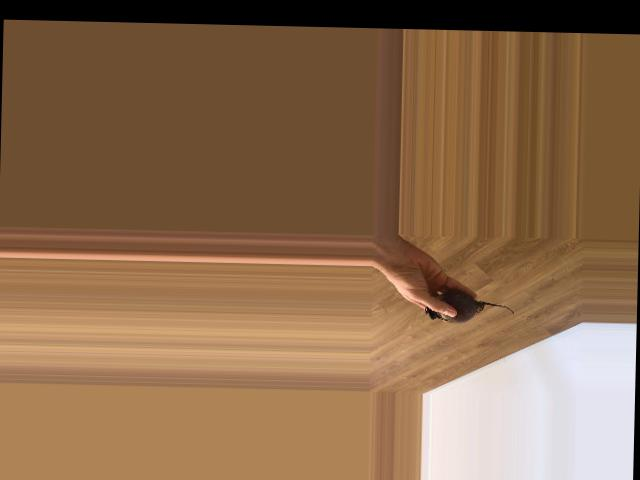beet: (425, 290, 515, 324)
